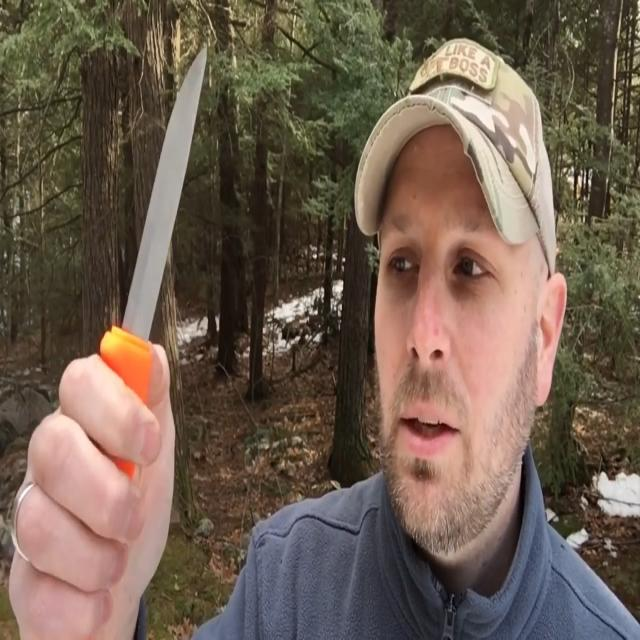knife: (100, 36, 212, 398)
